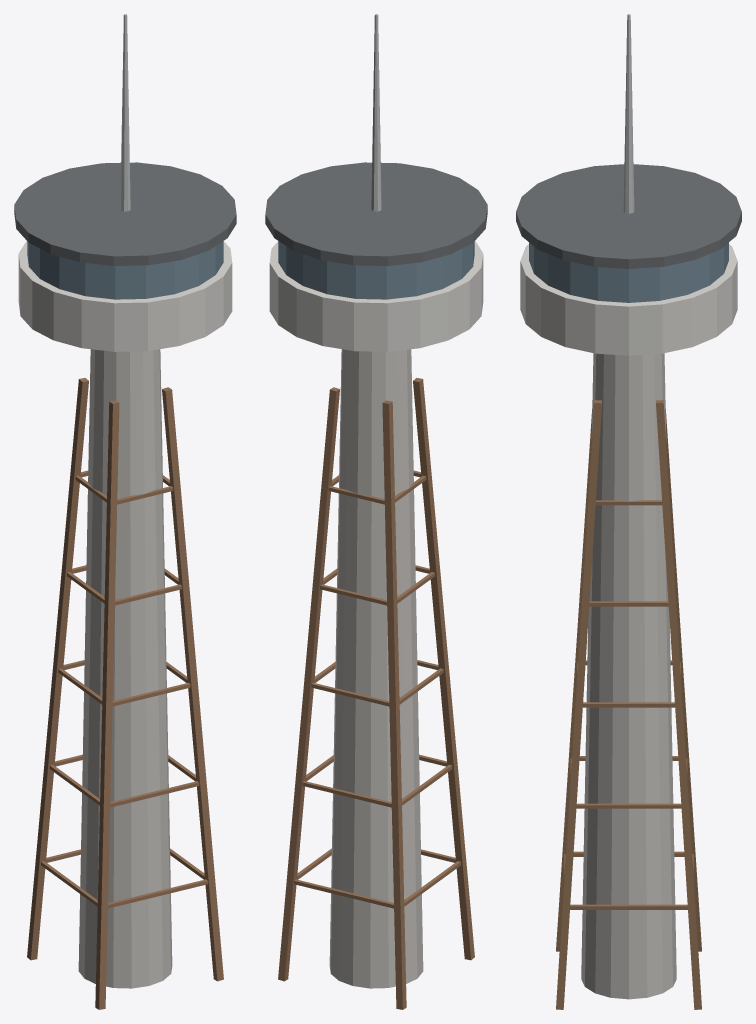
The model's file is bg_tower.glb.
3 renders of one model, left to right at view 1: azimuth 30°, elevation 25°; view 2: azimuth 150°, elevation 25°; view 3: azimuth 270°, elevation 25°, orthographic.
Parts seen in each view (by area): view 1: shaft, lattice, roof.001, deck.001, deck_glass, mast; view 2: shaft, lattice, roof.001, deck.001, deck_glass, mast; view 3: shaft, roof.001, lattice, deck.001, deck_glass, mast.
Part boxes in pixels (x1,y1,x2,y2): shaft: [78, 349, 172, 988]; lattice: [27, 378, 223, 1009]; roof.001: [14, 162, 236, 265]; deck.001: [18, 241, 232, 351]; deck_glass: [27, 241, 223, 299]; mast: [120, 14, 130, 211]; shaft: [329, 349, 423, 988]; lattice: [278, 378, 474, 1009]; roof.001: [265, 162, 487, 265]; deck.001: [269, 241, 483, 351]; deck_glass: [278, 241, 474, 299]; mast: [371, 14, 381, 211]; shaft: [581, 353, 676, 999]; roof.001: [516, 164, 741, 268]; lattice: [556, 400, 701, 1009]; deck.001: [520, 244, 737, 355]; deck_glass: [529, 242, 728, 302]; mast: [623, 14, 634, 213].
Size of the model in its own units: 10.4 by 49.02 by 10.4.
